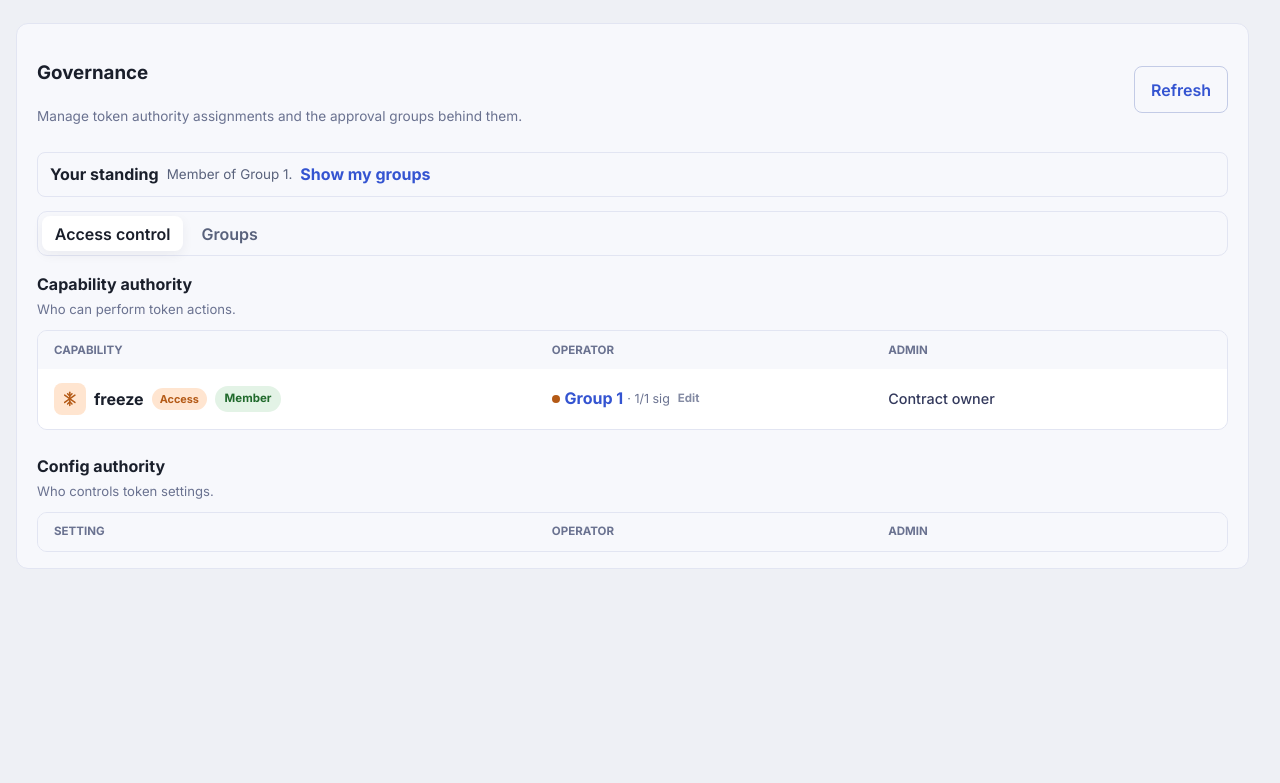
Test case: GovernanceView › shows governance changes read-only to an identity without authority
Expected: the text "freeze" is shown, left=94, top=387, right=144, bottom=411
What coordinates should you click on to do the following:
click the button "Edit"
I would click on:
 (689, 399)
Its box is left=675, top=390, right=703, bottom=408.
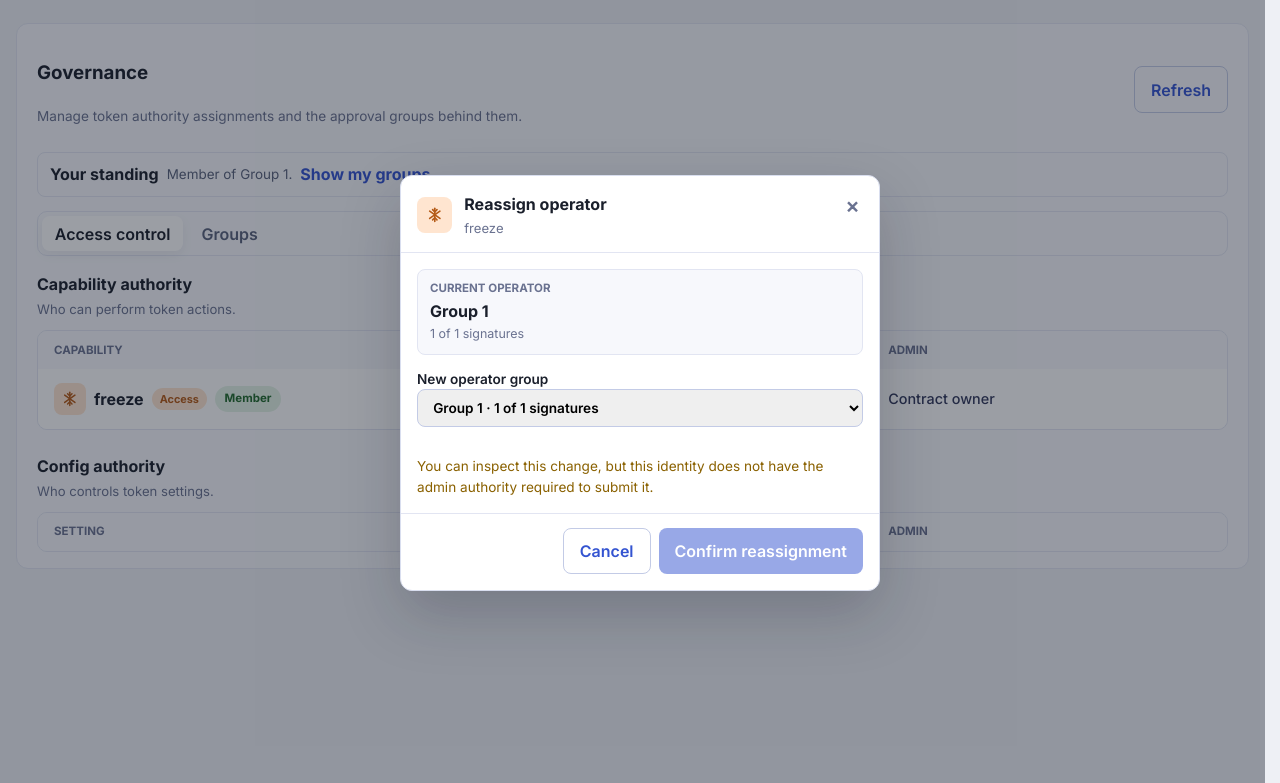
Expected: the text "does not have the admin authority required" is shown, left=417, top=458, right=823, bottom=495
Expected: the button "Confirm reassignment" is disabled, left=658, top=528, right=863, bottom=574
What coordinates should you click on to do the following:
click the button named "Close"
I would click on:
 (853, 206)
Its box is left=842, top=192, right=863, bottom=220.
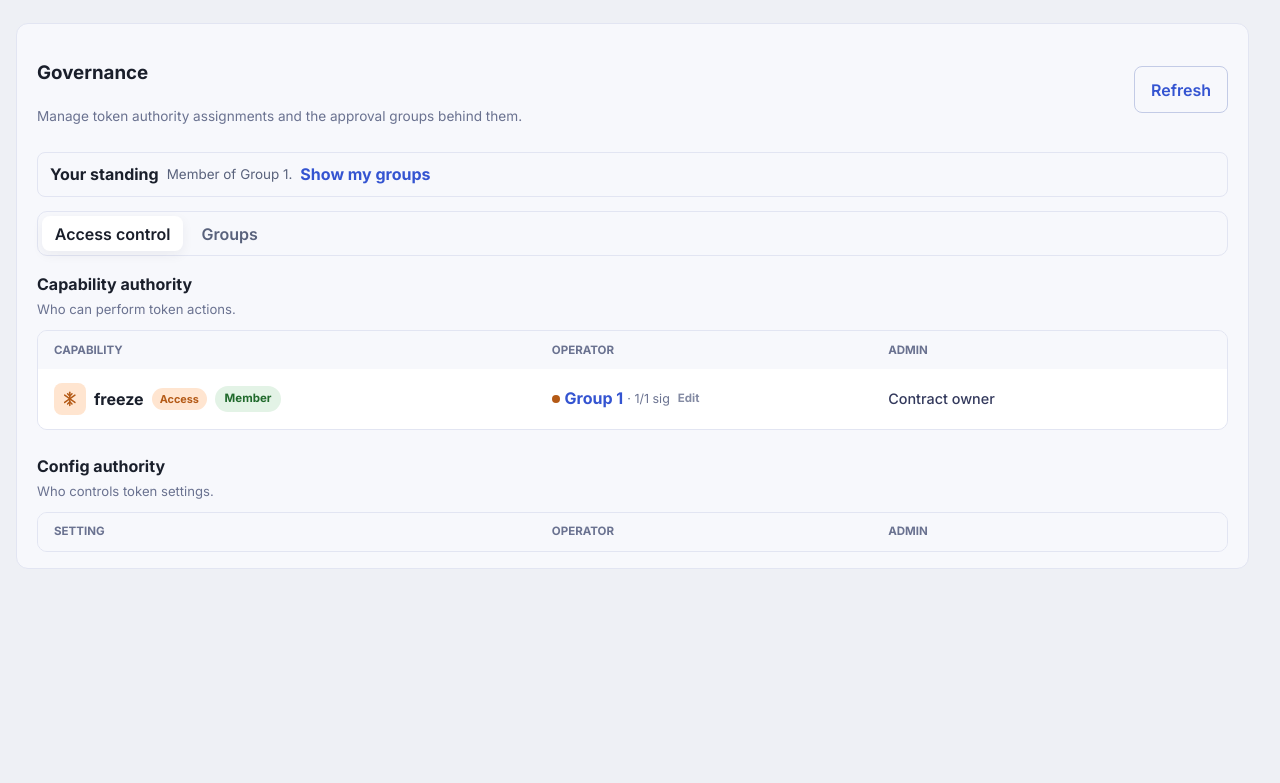
What coordinates should you click on to do the following:
click the tab "Groups"
I would click on:
 (230, 234)
Its box is left=189, top=216, right=271, bottom=251.
(page scrolled)
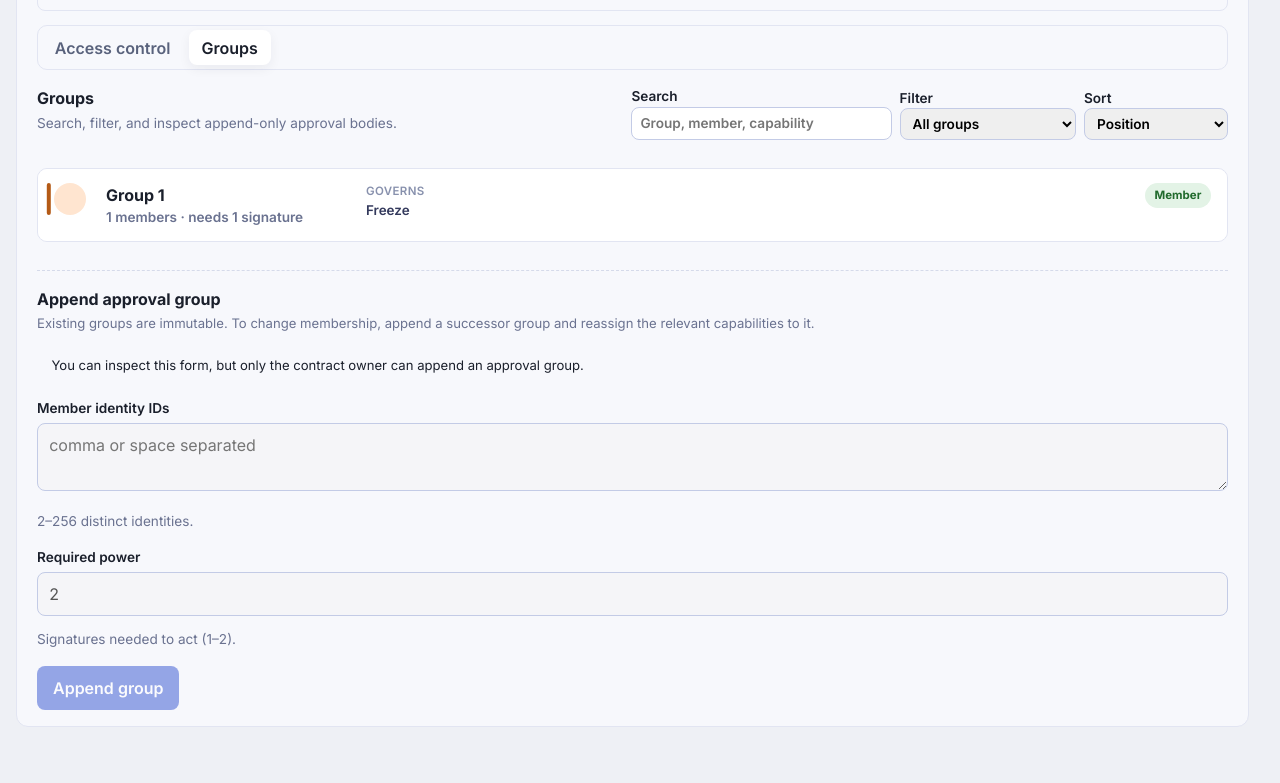
Expected: the text "only the contract owner can append" is shown, left=51, top=357, right=584, bottom=373
Expected: the button "Append group" is disabled, left=37, top=666, right=179, bottom=710
